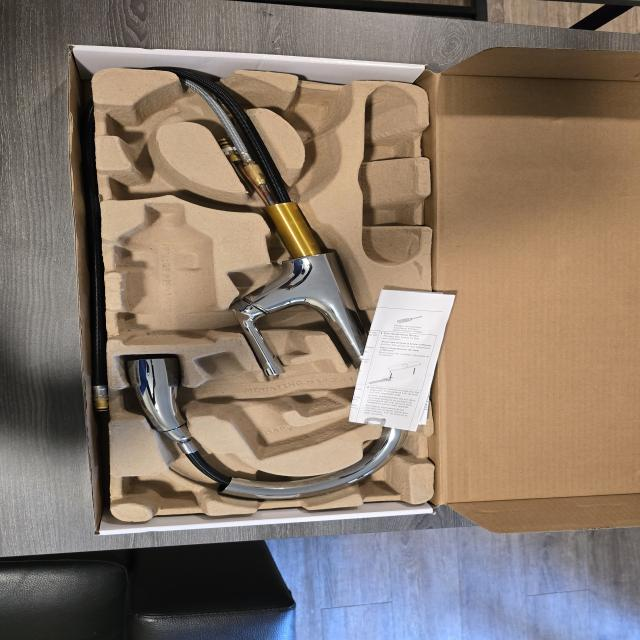1o: (125, 70, 413, 502)
2m: (199, 352, 366, 459)
3m: (114, 203, 219, 345)
4m: (361, 84, 424, 265)
5m: (290, 89, 347, 135)
6m: (106, 93, 181, 143)
7m: (107, 157, 195, 198)
8: (348, 287, 455, 433)
